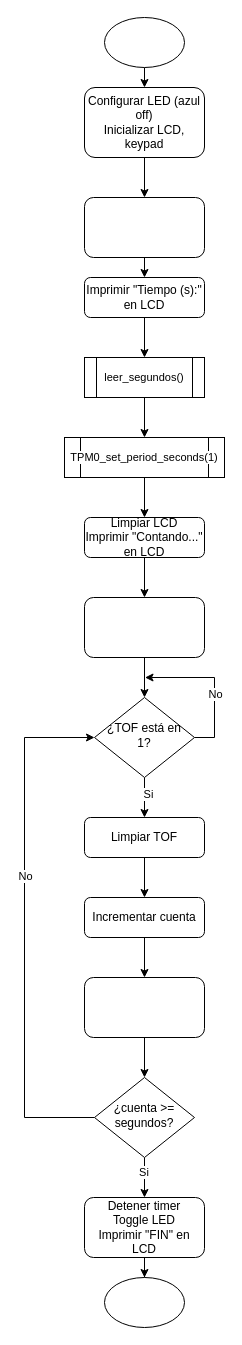
Image size: 242x1345. Some labels were removed from this diagram. Each missing label, with the centre of its shape:
Fin: (144,1302)
Imprimir "Hello" en LCD Delay 2000 ms Limpiar LCD: (144,227)
Inicio: (144,42)
Posicionar cursor en línea 2 Imprimir "00s/XXs" en LCD: (144,627)
Posicionar cursor en línea 2 Imprimir valor actual de cuenta en LCD: (144,1007)
